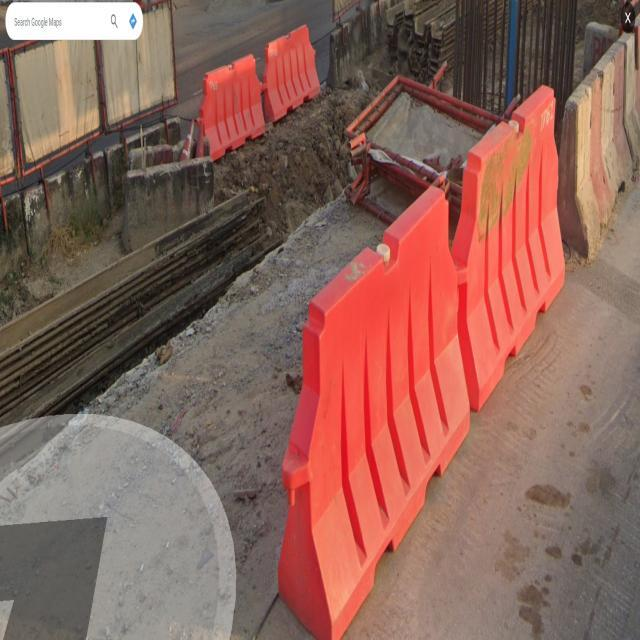fallen_object: (225, 193, 483, 640), (420, 79, 579, 418), (527, 36, 640, 234), (180, 26, 336, 150)
